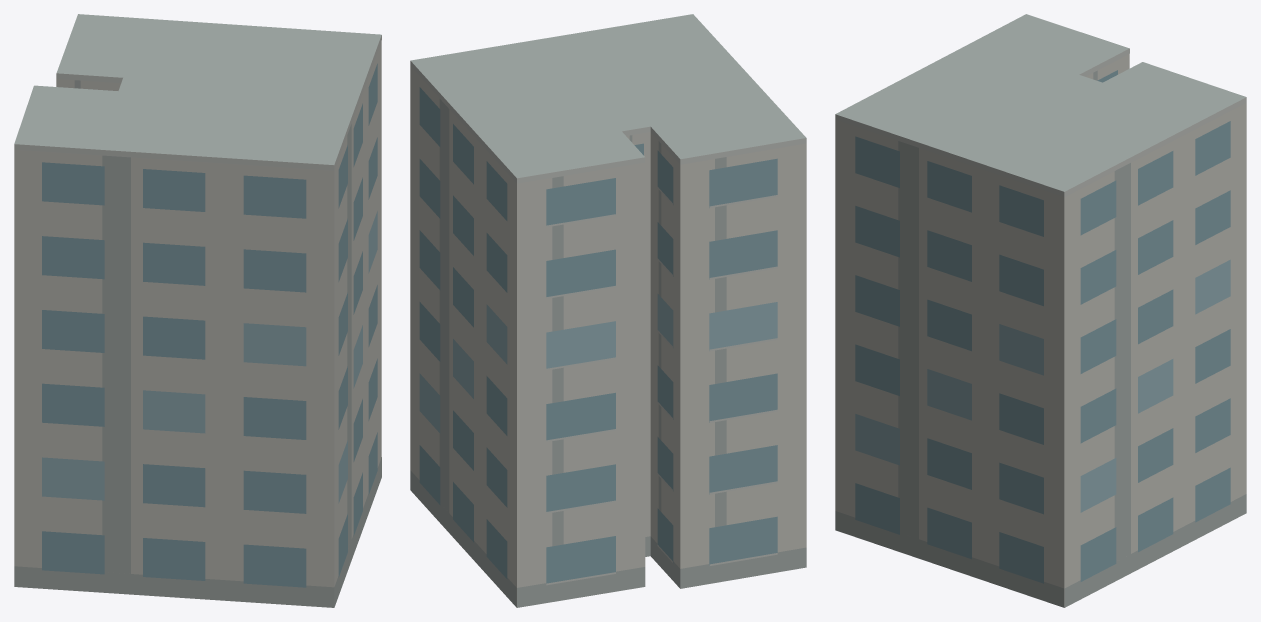
The model's file is survey-upis-32883444.glb.
The picture shows the model from 3 angles, left to right: view 1: azimuth 30°, elevation 25°; view 2: azimuth 150°, elevation 25°; view 3: azimuth 270°, elevation 25°; orthographic projection. The views are drawn at different scales.
Visible parts, largest first — view 1: survey-upis-32883444.tmp; view 2: survey-upis-32883444.tmp; view 3: survey-upis-32883444.tmp.
Part boxes in pixels (box(x1,y1,x2,y2)): survey-upis-32883444.tmp: box(14, 14, 381, 607); survey-upis-32883444.tmp: box(410, 14, 806, 607); survey-upis-32883444.tmp: box(835, 14, 1246, 607).
Size of the model in its own units: 17.57 by 19.15 by 17.17.
